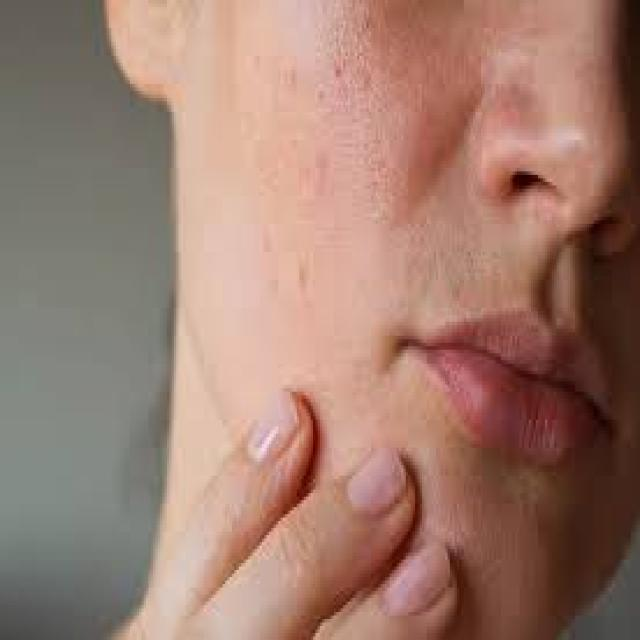Dry-Skin: (368, 115, 416, 335), (475, 490, 522, 581), (257, 68, 319, 135), (390, 78, 439, 152), (449, 212, 496, 286), (452, 53, 488, 127), (334, 42, 376, 105), (380, 20, 423, 77)
